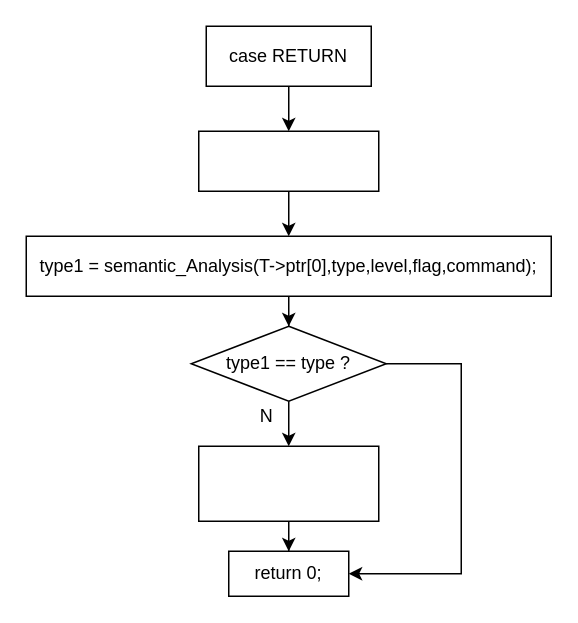
Image size: 578x623. Some labels were removed from this diagram. The shapes that lost their labels are listed below. From the top down, each one's centre as x and y in pixels, then its label:
At point (288, 160): "获取其子节点的type".
At point (288, 483): "函数返回参数类型与函数定义类型不匹配".
